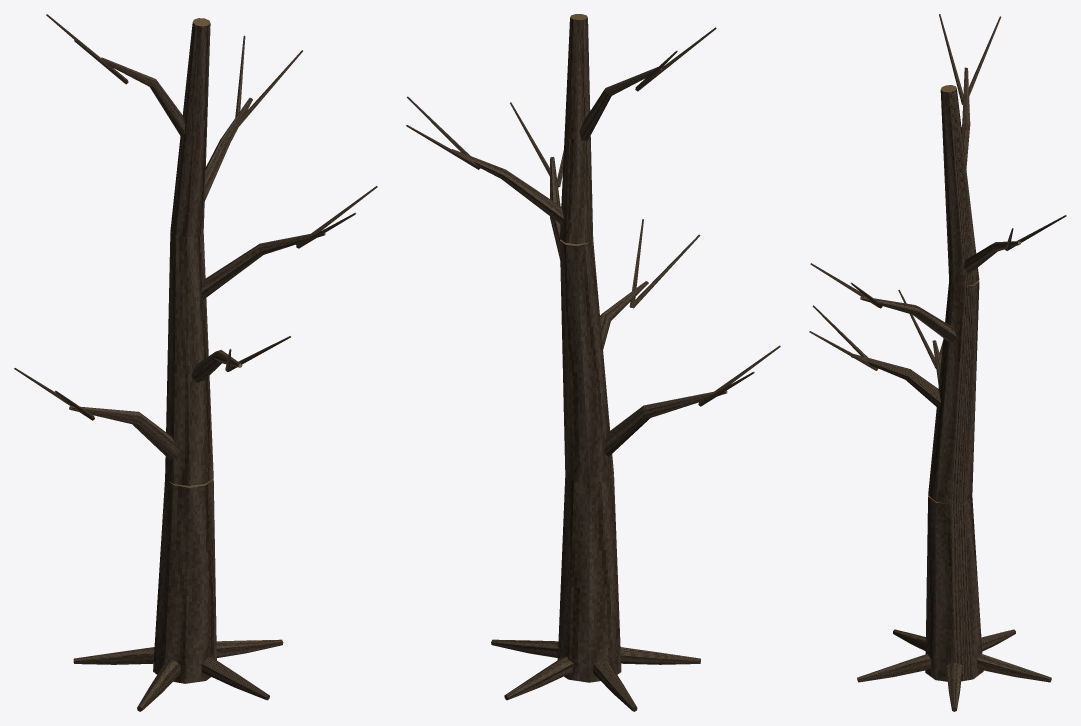
File: env_trees_01_straight_snag.glb
3 views of the same model, side by side, from view 1: azimuth 30°, elevation 25°; view 2: azimuth 150°, elevation 25°; view 3: azimuth 270°, elevation 25° (orthographic). The views are drawn at different scales.
Visible parts, largest first — view 1: solid; view 2: solid; view 3: solid.
Part boxes in pixels (<box>): solid: <box>14,14,377,711</box>; solid: <box>406,14,780,711</box>; solid: <box>809,14,1066,711</box>.
Bounding box in the file's own units: 2.37 × 4.73 × 1.83.
1 material, 1 textured.
